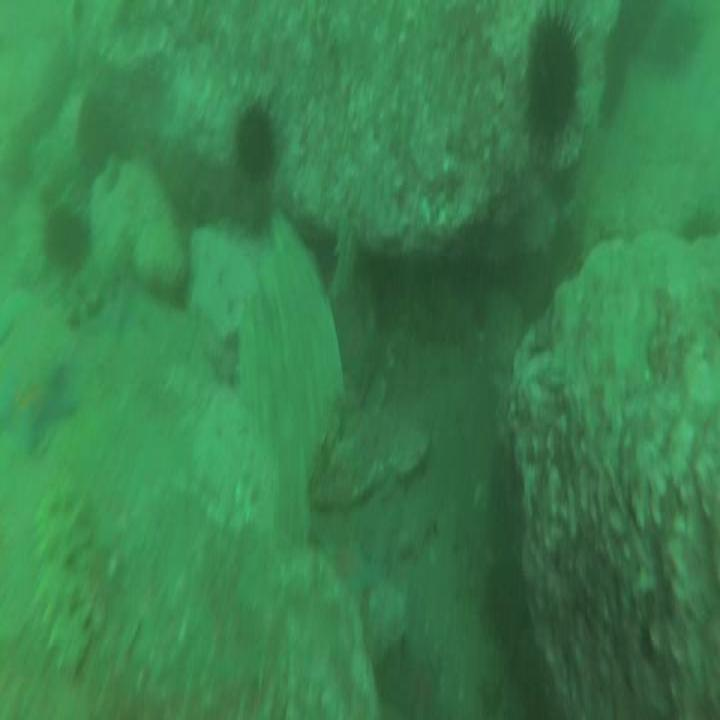echinus: (522, 1, 582, 164), (370, 638, 436, 720), (483, 555, 535, 654), (37, 195, 96, 281), (76, 91, 131, 176), (233, 90, 277, 195), (673, 201, 720, 242)
holothurian: (27, 482, 100, 681), (59, 229, 136, 329)
starfish: (0, 354, 77, 462), (314, 524, 389, 614)
